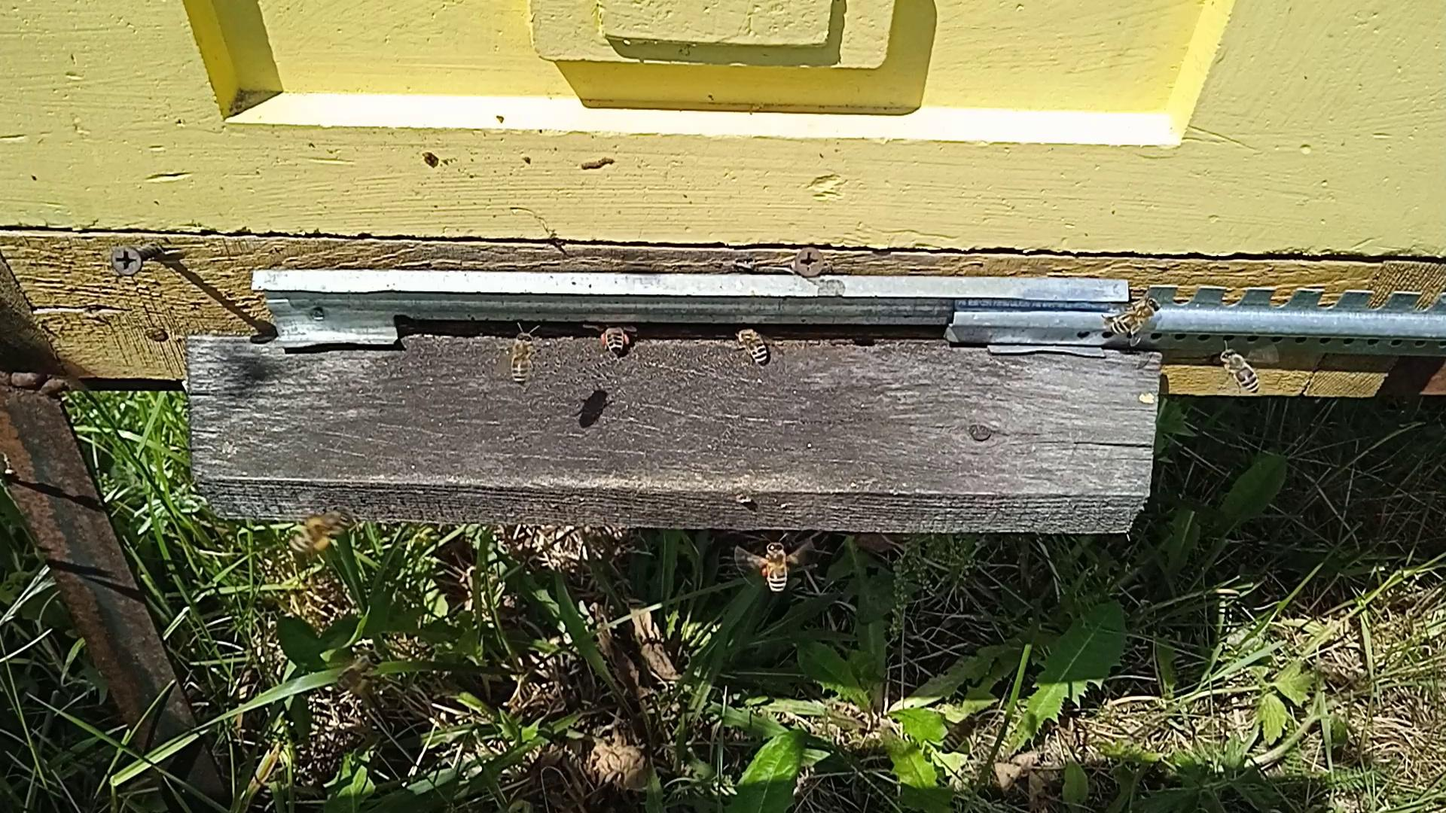worker-bee: (290, 509, 354, 553), (1106, 297, 1162, 336), (334, 652, 381, 696), (1220, 348, 1261, 394), (509, 330, 539, 388), (760, 539, 790, 594), (941, 714, 980, 753), (734, 326, 771, 365), (599, 322, 632, 355)
